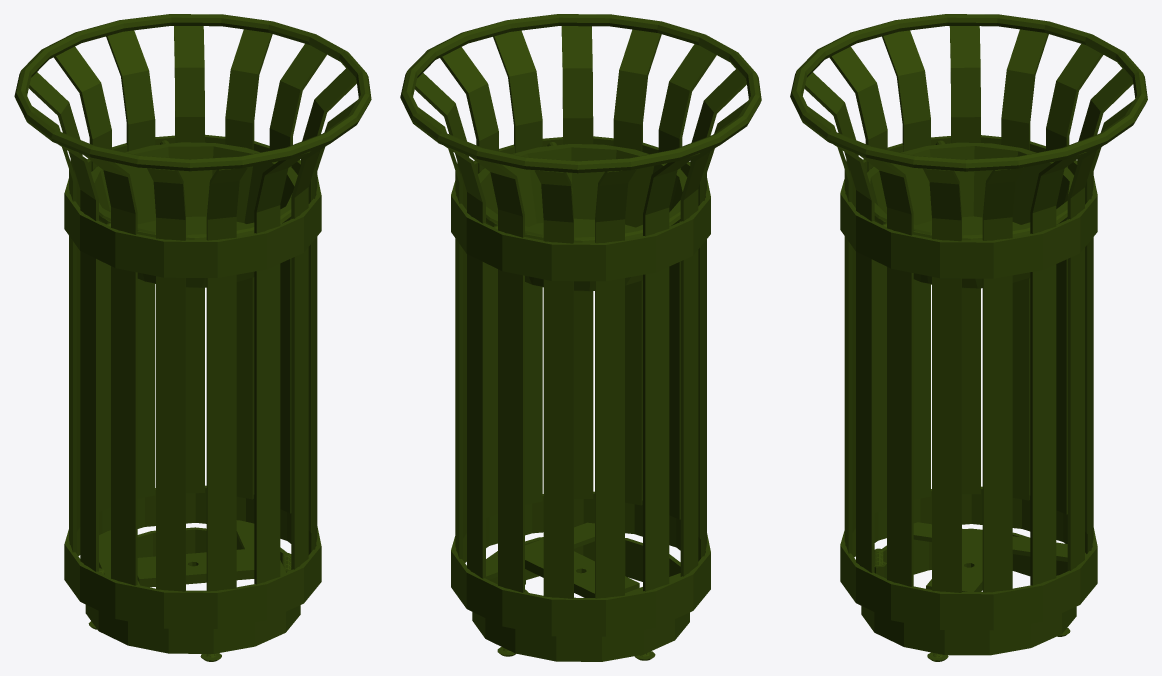
3 views of the same model, side by side, from view 1: azimuth 30°, elevation 25°; view 2: azimuth 150°, elevation 25°; view 3: azimuth 270°, elevation 25° (orthographic).
Visible parts, largest first — view 1: mesh26_mesh26-geometry, mesh23_mesh23-geometry, mesh32_mesh32-geometry, mesh22_mesh22-geometry, mesh33_mesh33-geometry, mesh25_mesh25-geometry, mesh24_mesh24-geometry, mesh29_mesh29-geometry, mesh10_mesh10-geometry, mesh6_mesh6-geometry, mesh7_mesh7-geometry, mesh34_mesh34-geometry (+9 smaller); view 2: mesh26_mesh26-geometry, mesh5_mesh5-geometry, mesh9_mesh9-geometry, mesh22_mesh22-geometry, mesh6_mesh6-geometry, mesh24_mesh24-geometry, mesh8_mesh8-geometry, mesh10_mesh10-geometry, mesh28_mesh28-geometry, mesh25_mesh25-geometry, mesh27_mesh27-geometry, mesh7_mesh7-geometry (+9 smaller); view 3: mesh26_mesh26-geometry, mesh30_mesh30-geometry, mesh31_mesh31-geometry, mesh22_mesh22-geometry, mesh27_mesh27-geometry, mesh29_mesh29-geometry, mesh24_mesh24-geometry, mesh10_mesh10-geometry, mesh8_mesh8-geometry, mesh34_mesh34-geometry, mesh33_mesh33-geometry, mesh28_mesh28-geometry (+10 smaller).
Boxes of the visible parts, x1,y1,x2,y2 form: mesh26_mesh26-geometry: (64,485,321,628); mesh23_mesh23-geometry: (206,167,247,591); mesh32_mesh32-geometry: (147,168,185,591); mesh22_mesh22-geometry: (64,134,321,277); mesh33_mesh33-geometry: (83,154,137,585); mesh25_mesh25-geometry: (254,151,309,584); mesh24_mesh24-geometry: (14,14,371,171); mesh29_mesh29-geometry: (225,29,272,499); mesh10_mesh10-geometry: (91,142,297,287); mesh6_mesh6-geometry: (106,30,155,498); mesh7_mesh7-geometry: (174,26,204,493); mesh34_mesh34-geometry: (58,144,98,571); mesh26_mesh26-geometry: (451,491,710,636); mesh5_mesh5-geometry: (534,170,573,598); mesh9_mesh9-geometry: (595,169,636,598); mesh22_mesh22-geometry: (451,136,710,281); mesh6_mesh6-geometry: (470,156,524,592); mesh24_mesh24-geometry: (400,14,761,173); mesh8_mesh8-geometry: (643,153,699,591); mesh10_mesh10-geometry: (478,144,687,291); mesh28_mesh28-geometry: (561,26,593,499); mesh25_mesh25-geometry: (613,29,661,505); mesh27_mesh27-geometry: (493,30,542,504); mesh7_mesh7-geometry: (445,146,485,578); mesh26_mesh26-geometry: (840,486,1097,630); mesh30_mesh30-geometry: (982,167,1023,592); mesh31_mesh31-geometry: (923,168,961,592); mesh22_mesh22-geometry: (840,135,1097,278); mesh27_mesh27-geometry: (859,155,913,586); mesh29_mesh29-geometry: (1030,152,1086,585); mesh24_mesh24-geometry: (790,14,1147,171); mesh10_mesh10-geometry: (867,142,1073,288); mesh8_mesh8-geometry: (1001,29,1048,500); mesh34_mesh34-geometry: (949,26,980,494); mesh33_mesh33-geometry: (882,30,930,499); mesh28_mesh28-geometry: (834,144,874,572).
Size of the model in its own units: 0.4594 by 0.7599 by 0.46.
